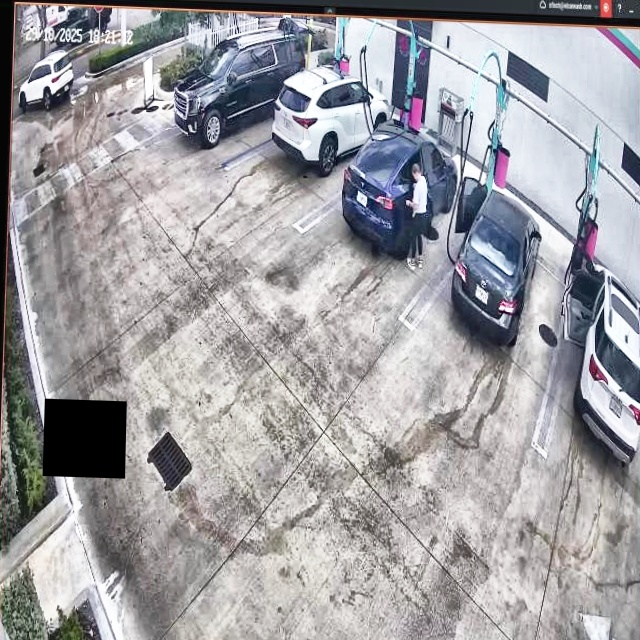Car: (451, 171, 541, 346), (344, 119, 458, 243), (274, 63, 389, 168)
